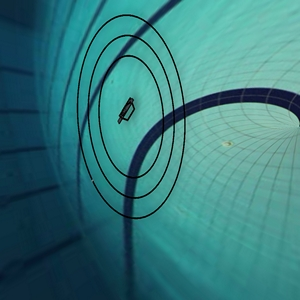circle: (63, 13, 208, 228)
submarine: (107, 90, 147, 132)
